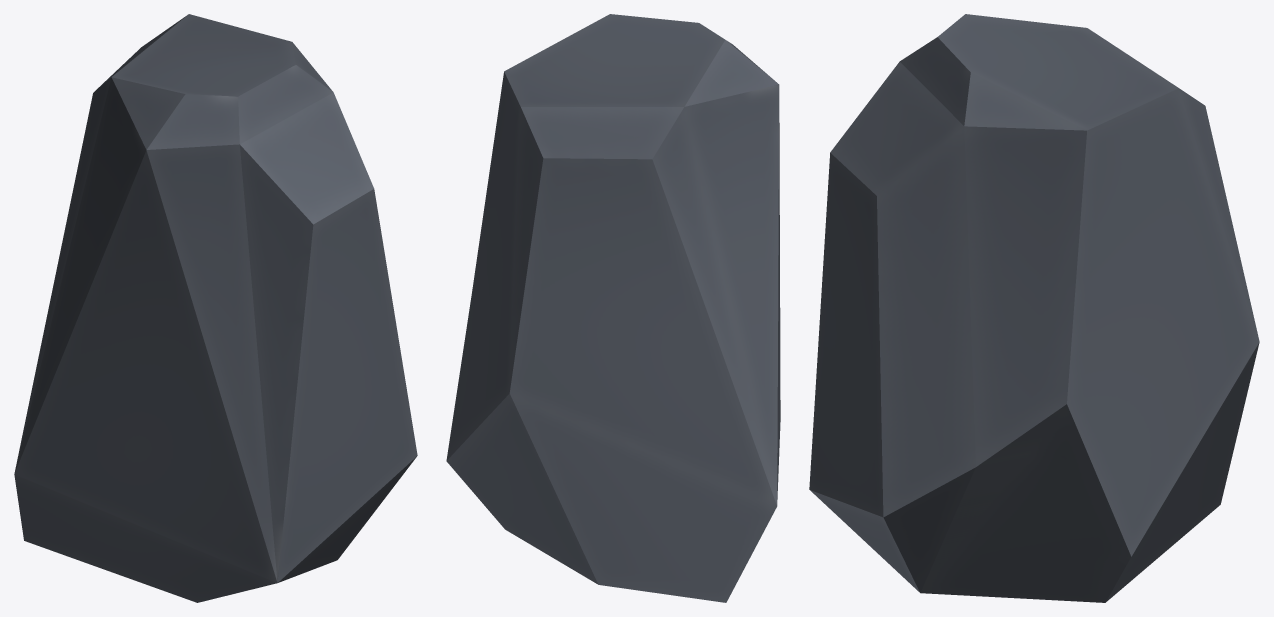
Rendered from Rock4.fbx.
The picture shows the model from 3 angles, left to right: view 1: azimuth 30°, elevation 25°; view 2: azimuth 150°, elevation 25°; view 3: azimuth 270°, elevation 25°; orthographic projection. The views are drawn at different scales.
Parts seen in each view (by area): view 1: Rock4; view 2: Rock4; view 3: Rock4.
Part boxes in pixels (x1,y1,x2,y2): Rock4: (14, 14, 417, 602); Rock4: (446, 14, 780, 602); Rock4: (809, 14, 1259, 602).
Size of the model in its own units: 2.89 by 4.29 by 3.35.
Materials: 1 (1 with a texture image).
